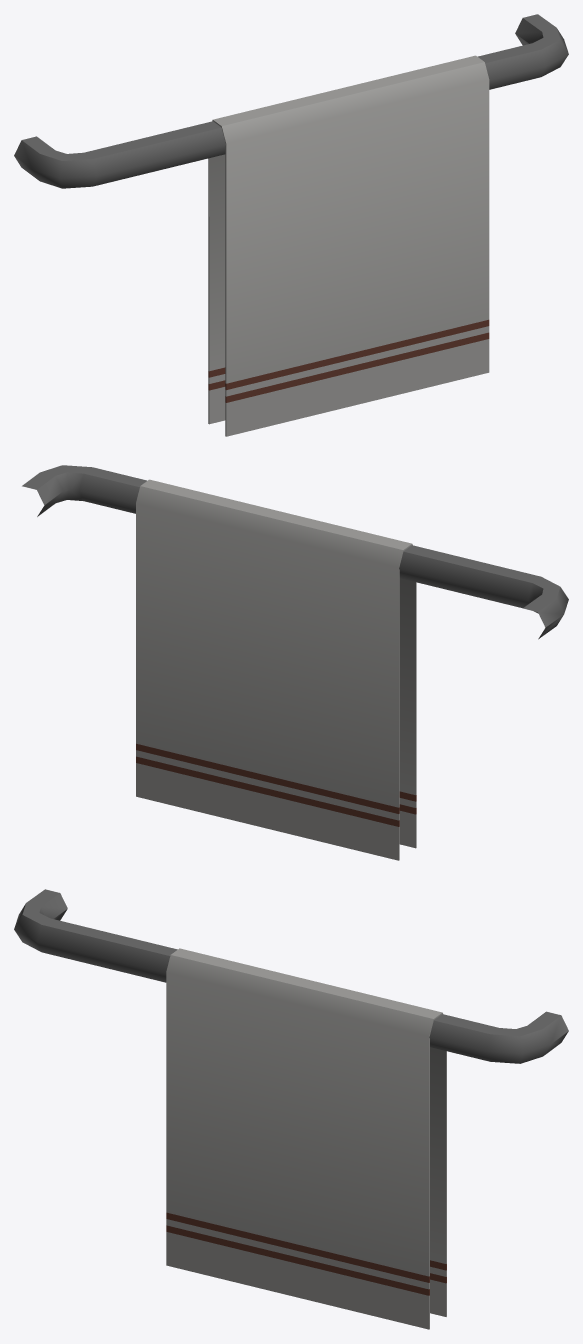
Rendered from quaternius-house-interior-bathroom-towel.glb.
3 renders of one model, top to bottom at view 1: azimuth 30°, elevation 25°; view 2: azimuth 150°, elevation 25°; view 3: azimuth 330°, elevation 25°, orthographic.
Visible parts, largest first — view 1: Bathroom_Towel; view 2: Bathroom_Towel; view 3: Bathroom_Towel.
Part boxes in pixels (x1=…): Bathroom_Towel: x1=14, y1=14, x2=568, y2=436; Bathroom_Towel: x1=22, y1=465, x2=568, y2=860; Bathroom_Towel: x1=14, y1=889, x2=568, y2=1329.
Bounding box in the file's own units: 1.18 × 0.6538 × 0.1611.
